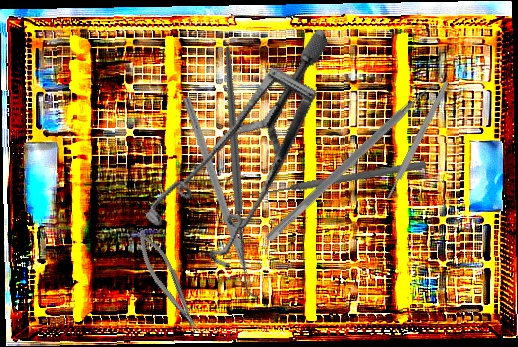Chopper: (171, 95, 259, 302)
Hook Surgical: (132, 44, 352, 300)
Needle Holder: (130, 225, 205, 339)
Pusher: (249, 158, 427, 201)
Scalpel Handle: (384, 79, 451, 202)
Spatula Surgical: (264, 73, 447, 250)
Speculum: (105, 27, 394, 290)
